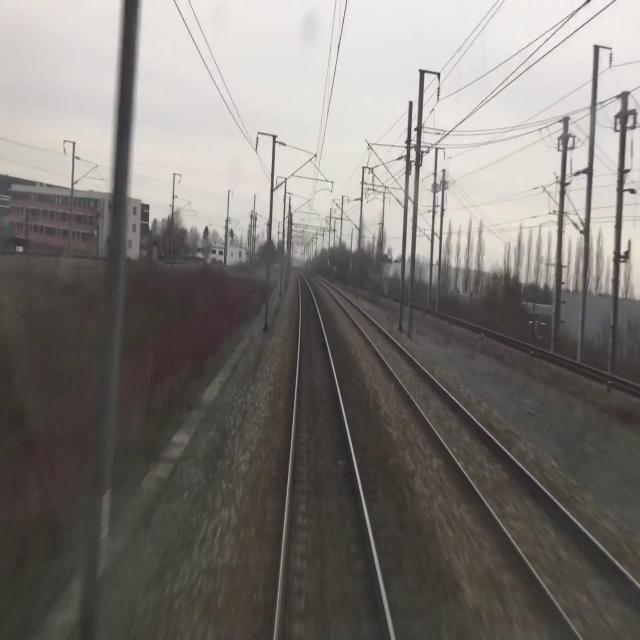rail-track: (316, 278, 640, 639), (279, 271, 390, 639)
